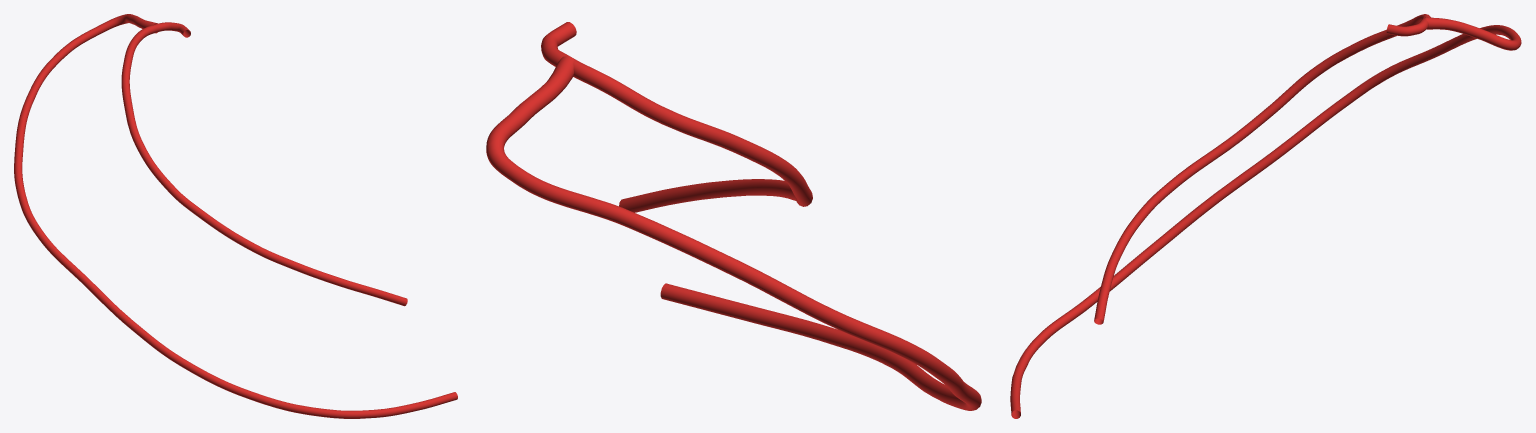
Rendered from circulatorio-supreme-intercostal-artery-r.glb.
The picture shows the model from 3 angles, left to right: view 1: azimuth 30°, elevation 25°; view 2: azimuth 150°, elevation 25°; view 3: azimuth 270°, elevation 25°; orthographic projection. The views are drawn at different scales.
Parts seen in each view (by area): view 1: Second posterior intercostal artery.r, First posterior intercostal artery.r; view 2: Second posterior intercostal artery.r, First posterior intercostal artery.r, Supreme intercostal artery.r; view 3: Second posterior intercostal artery.r, First posterior intercostal artery.r.
Boxes of the visible parts, x1,y1,x2,y2 form: Second posterior intercostal artery.r: [14, 14, 457, 418]; First posterior intercostal artery.r: [121, 24, 407, 306]; Second posterior intercostal artery.r: [486, 56, 981, 410]; First posterior intercostal artery.r: [573, 58, 812, 212]; Supreme intercostal artery.r: [541, 22, 576, 66]; Second posterior intercostal artery.r: [1010, 17, 1521, 418]; First posterior intercostal artery.r: [1094, 14, 1430, 324].
Size of the model in its own units: 0.0788 by 0.075 by 0.1046.
